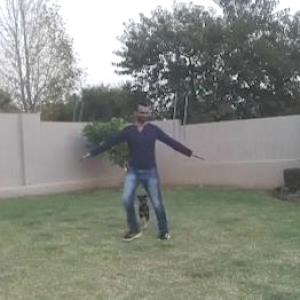land: (85, 110, 194, 238)
